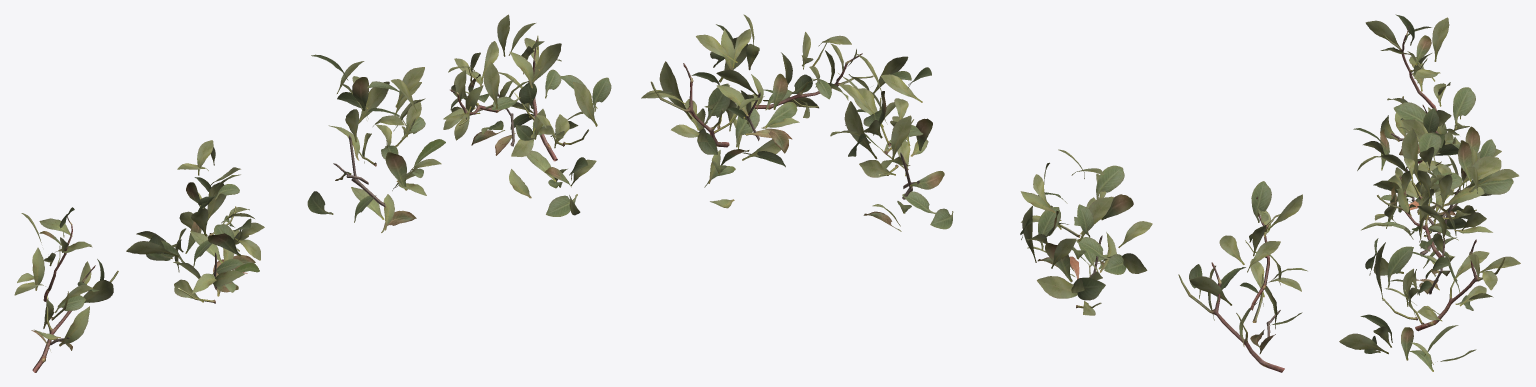
The model's file is shrub_a.glb.
3 views of the same model, side by side, from view 1: azimuth 30°, elevation 25°; view 2: azimuth 150°, elevation 25°; view 3: azimuth 270°, elevation 25° (orthographic). The views are drawn at different scales.
Visible parts, largest first — view 1: shrub_04; view 2: shrub_04; view 3: shrub_04.
Boxes of the visible parts, x1,y1,x2,y2 form: shrub_04: [14, 14, 611, 372]; shrub_04: [641, 14, 1307, 372]; shrub_04: [1339, 14, 1520, 371].
Size of the model in its own units: 0.5866 by 0.2181 by 0.1606.
1 material, 1 textured.
